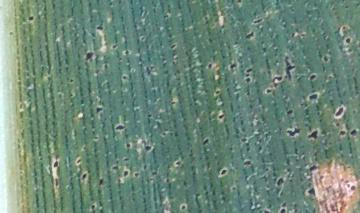tarspot: (282, 55, 296, 82), (285, 126, 301, 138), (271, 74, 285, 86), (306, 128, 320, 140), (333, 105, 345, 117), (250, 17, 265, 25), (308, 92, 319, 102), (244, 31, 256, 40), (85, 51, 94, 61), (308, 72, 317, 82), (349, 128, 358, 137), (80, 172, 88, 182), (115, 124, 125, 132), (219, 167, 227, 177), (308, 165, 319, 172), (122, 169, 130, 178), (201, 137, 209, 146), (242, 159, 251, 167), (264, 87, 273, 95), (321, 55, 330, 63), (275, 177, 283, 186), (307, 187, 316, 195), (95, 106, 103, 114), (179, 203, 187, 211), (344, 36, 352, 44), (338, 129, 346, 137), (228, 62, 237, 69), (243, 76, 252, 83), (244, 67, 254, 73), (52, 160, 59, 168), (121, 74, 129, 81), (110, 164, 118, 171), (174, 160, 182, 167), (54, 177, 59, 188), (95, 25, 104, 31), (98, 178, 104, 187), (122, 157, 131, 163), (278, 207, 287, 213), (133, 171, 140, 178), (169, 42, 176, 49), (141, 163, 148, 170), (349, 184, 356, 191), (123, 49, 131, 55), (90, 203, 96, 211), (76, 157, 82, 165), (150, 170, 158, 176), (285, 109, 293, 115), (182, 180, 188, 188), (248, 103, 254, 111), (27, 15, 34, 21), (243, 72, 250, 78), (146, 113, 153, 119), (92, 135, 99, 141), (167, 32, 173, 39), (257, 145, 263, 152), (217, 114, 225, 119), (240, 137, 248, 142), (69, 78, 75, 84), (231, 186, 237, 192), (219, 190, 225, 196), (281, 201, 287, 207), (244, 141, 250, 147), (239, 127, 245, 133), (111, 44, 118, 49), (144, 146, 151, 151), (207, 63, 212, 70), (220, 197, 227, 202), (345, 182, 350, 189), (160, 131, 167, 136), (215, 89, 220, 95), (140, 36, 146, 41), (245, 146, 251, 151), (165, 178, 171, 183), (125, 143, 130, 148), (239, 119, 243, 125), (236, 1, 242, 4)
